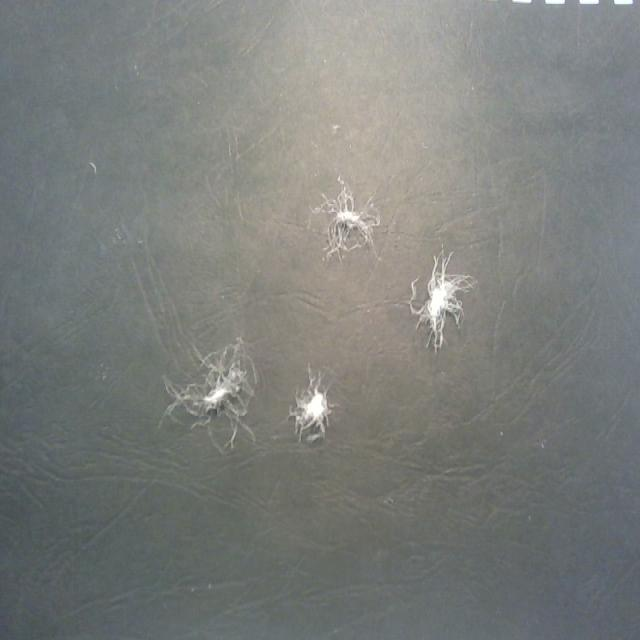feather: (165, 334, 261, 438), (407, 254, 478, 338), (315, 179, 386, 261), (284, 376, 341, 441)
